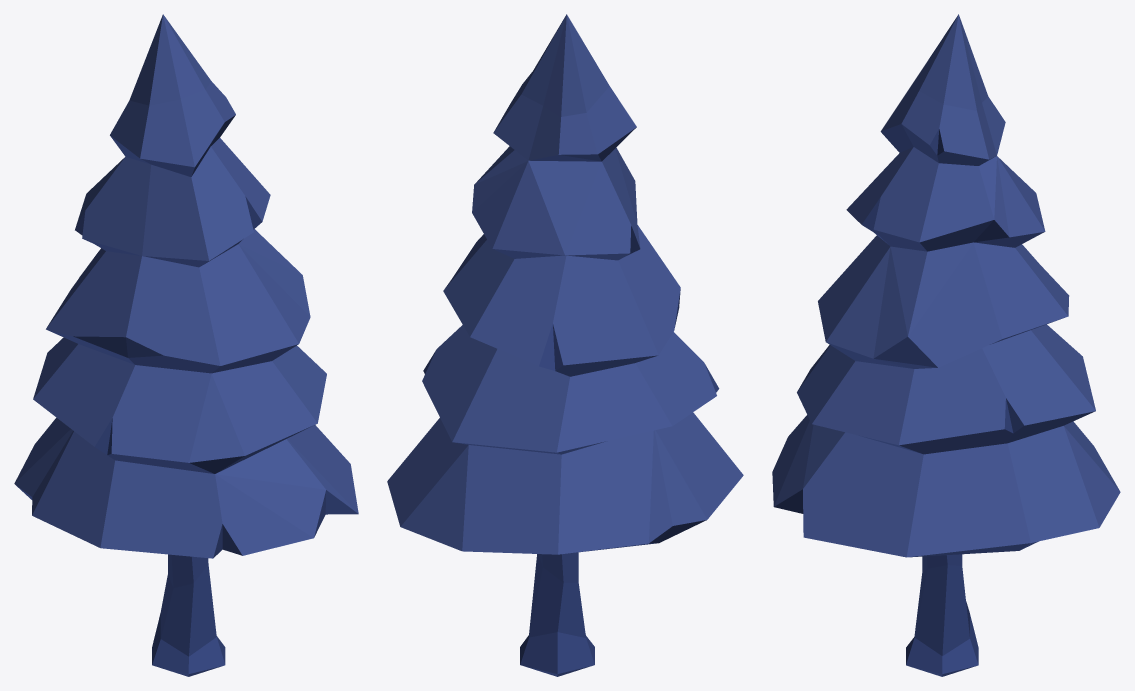
File: SM_Prop_Tree_Pine_02.fbx
3 renders of one model, left to right at view 1: azimuth 30°, elevation 25°; view 2: azimuth 150°, elevation 25°; view 3: azimuth 270°, elevation 25°, orthographic. The views are drawn at different scales.
Parts seen in each view (by area): view 1: SM_Prop_Tree_Pine_02; view 2: SM_Prop_Tree_Pine_02; view 3: SM_Prop_Tree_Pine_02.
Boxes of the visible parts, <box> form: SM_Prop_Tree_Pine_02: <box>14,14,358,676</box>; SM_Prop_Tree_Pine_02: <box>387,14,743,676</box>; SM_Prop_Tree_Pine_02: <box>772,14,1120,676</box>.
Bounding box in the file's own units: 139 × 297 × 143.
